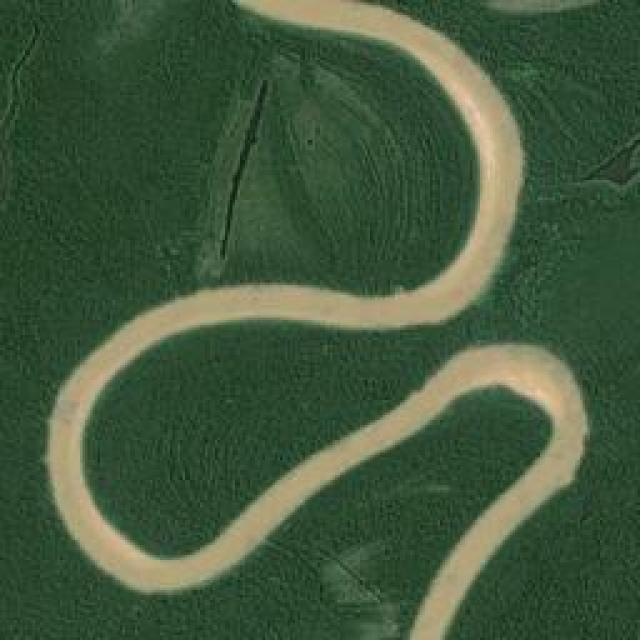Forest: (1, 1, 639, 639)
River: (47, 0, 587, 636)
